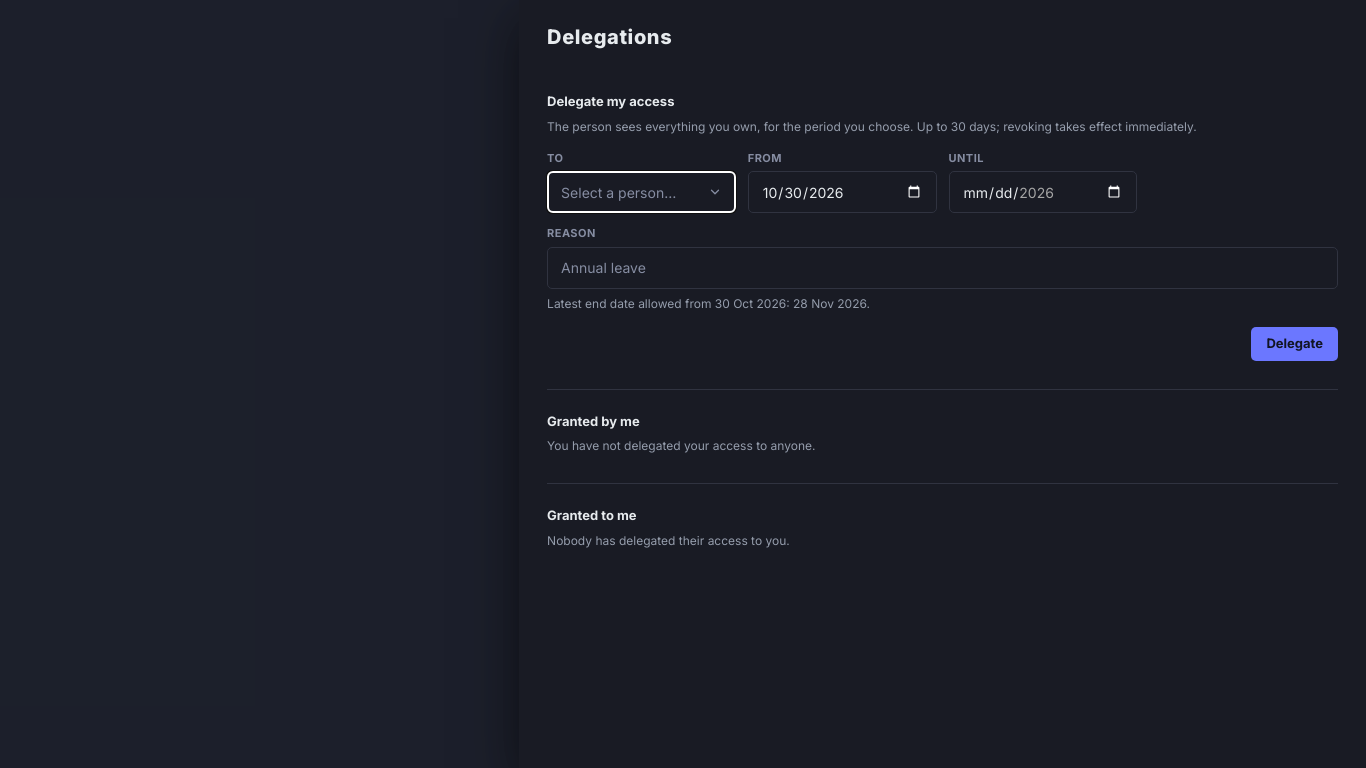
Scenario: DelegationsPanel › should name whoever was chosen, so the form can be read back before it is sent
Click the button with aria-label "Delegate to" at x=641, y=192, box [547,171,736,213]
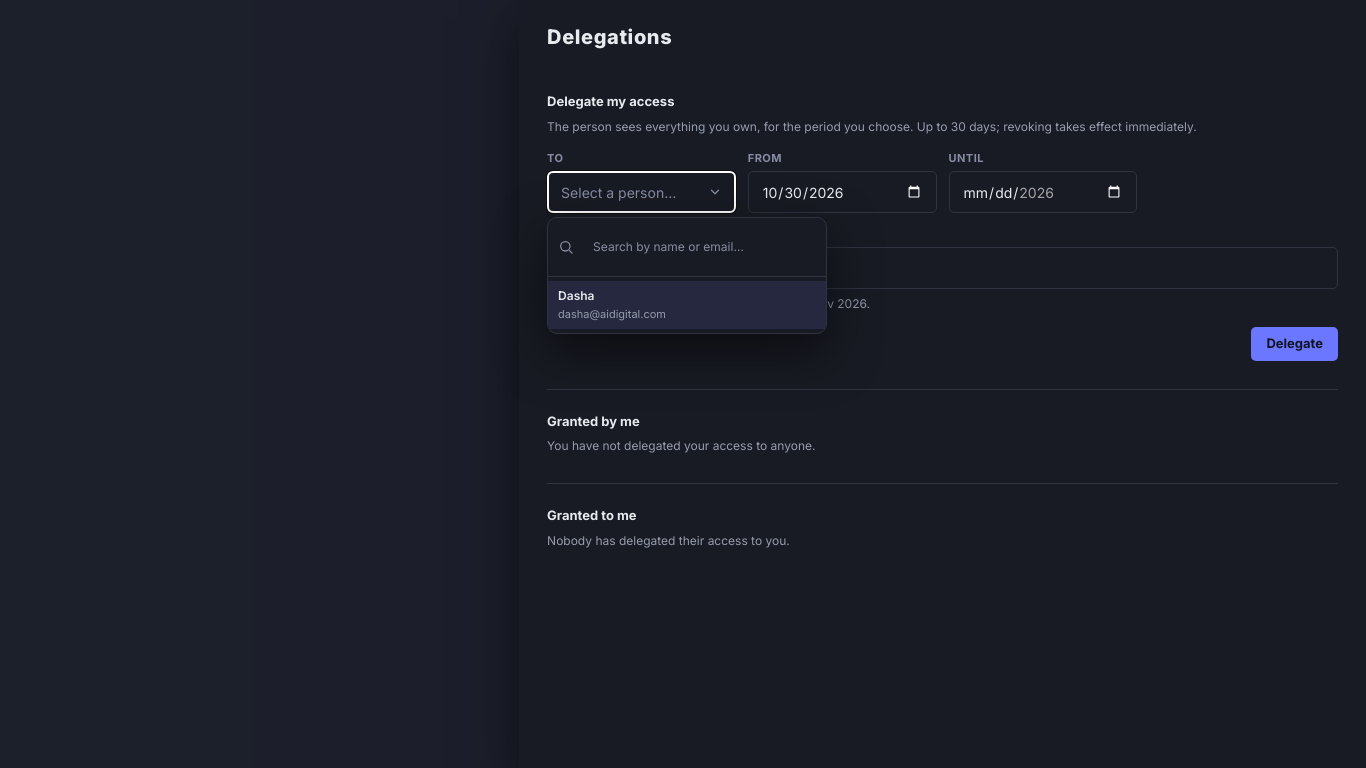
Click the option "Dasha dasha@aidigital.com" at x=576, y=296, box [548,281,826,328]
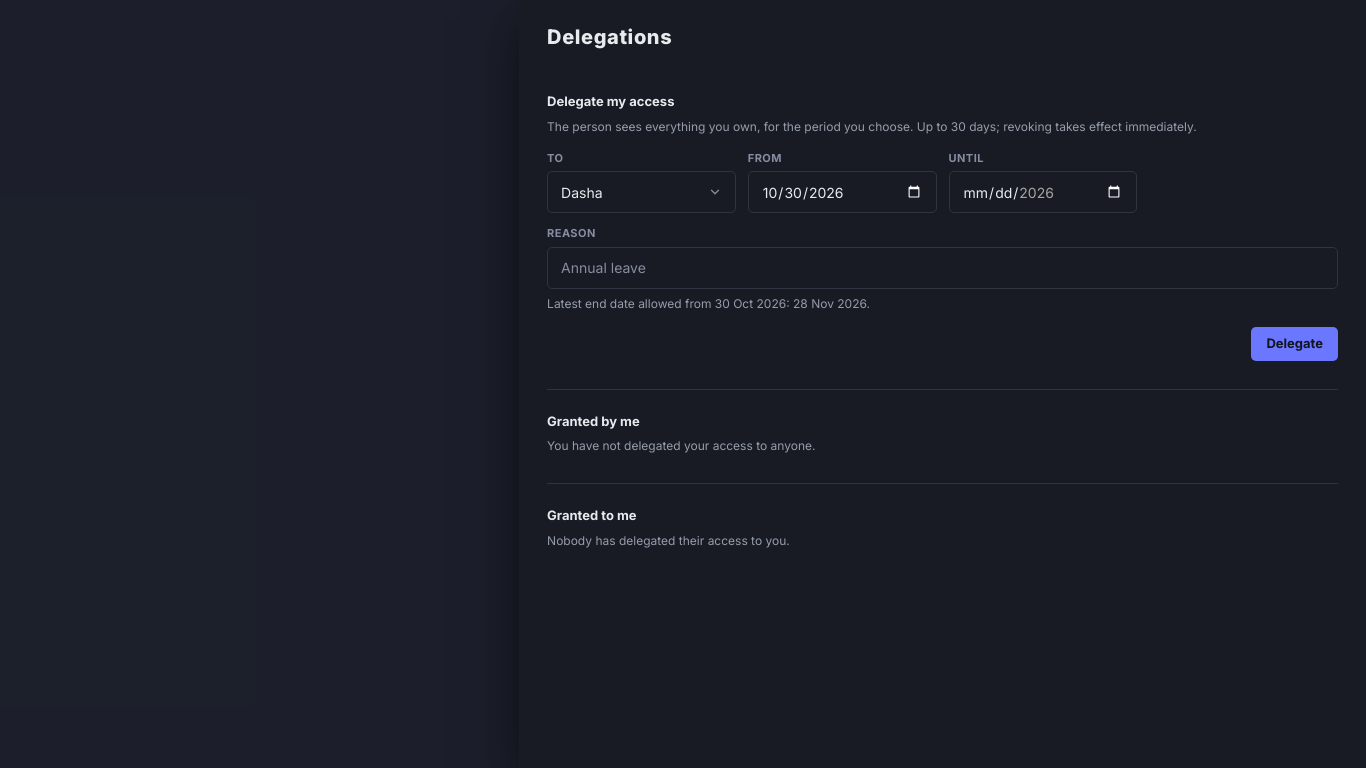
Check: the button with aria-label "Delegate to: Dasha" is shown, box [547,171,736,213]
Check: the button "Select a person…" is gone
